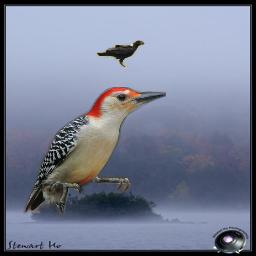Crow: (96, 40, 145, 67)
Woodpecker: (23, 87, 166, 214)
